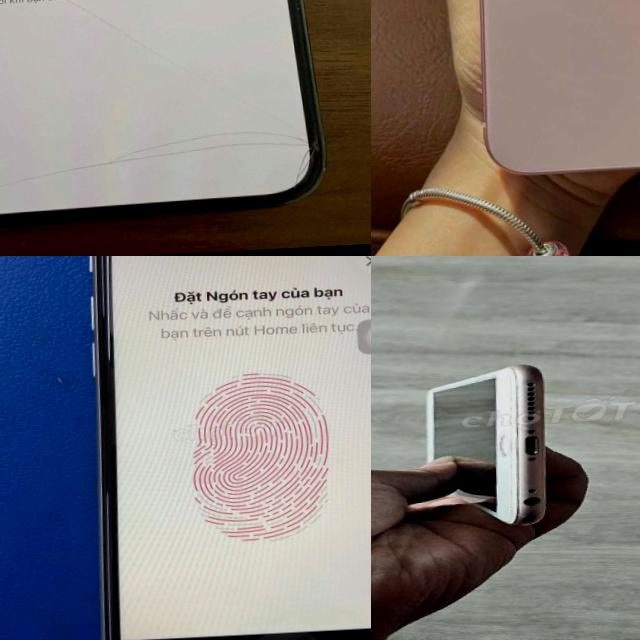gen_12_13: (0, 0, 332, 236)
gen_15: (446, 0, 640, 206)
gen_6: (426, 365, 551, 525)
gen_7_8: (90, 256, 371, 640)
physical_damage: (0, 108, 318, 223)
scratch: (502, 502, 538, 524)
